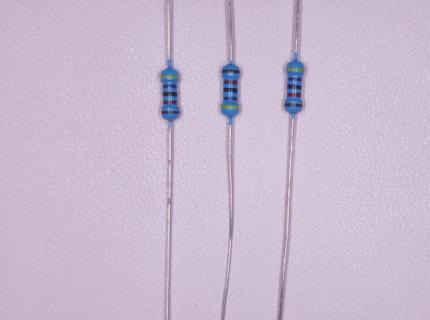Black band: (287, 84, 302, 90), (163, 92, 177, 97), (224, 88, 237, 93)
Brown band: (222, 70, 240, 74), (284, 103, 302, 107), (161, 111, 179, 114)
Red band: (224, 80, 238, 85), (287, 93, 301, 98), (163, 100, 177, 104)
Violet band: (287, 77, 302, 81), (163, 85, 177, 89), (223, 97, 237, 100)
Yellow band: (161, 75, 179, 79), (222, 106, 239, 109), (287, 68, 304, 71)
